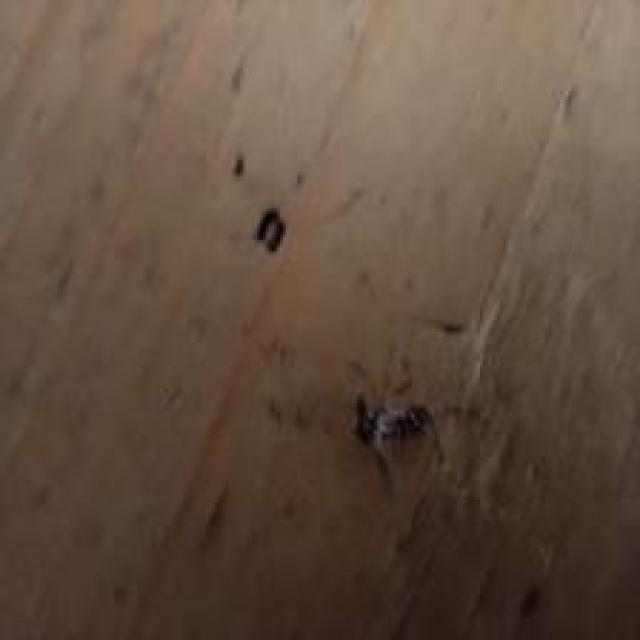Aedes albopictus: (353, 393, 436, 450)
